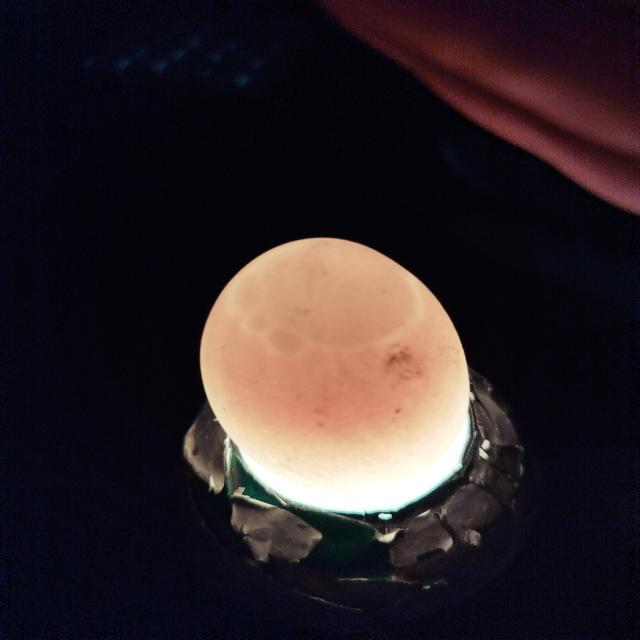Camara de Ar: (228, 236, 424, 354)
